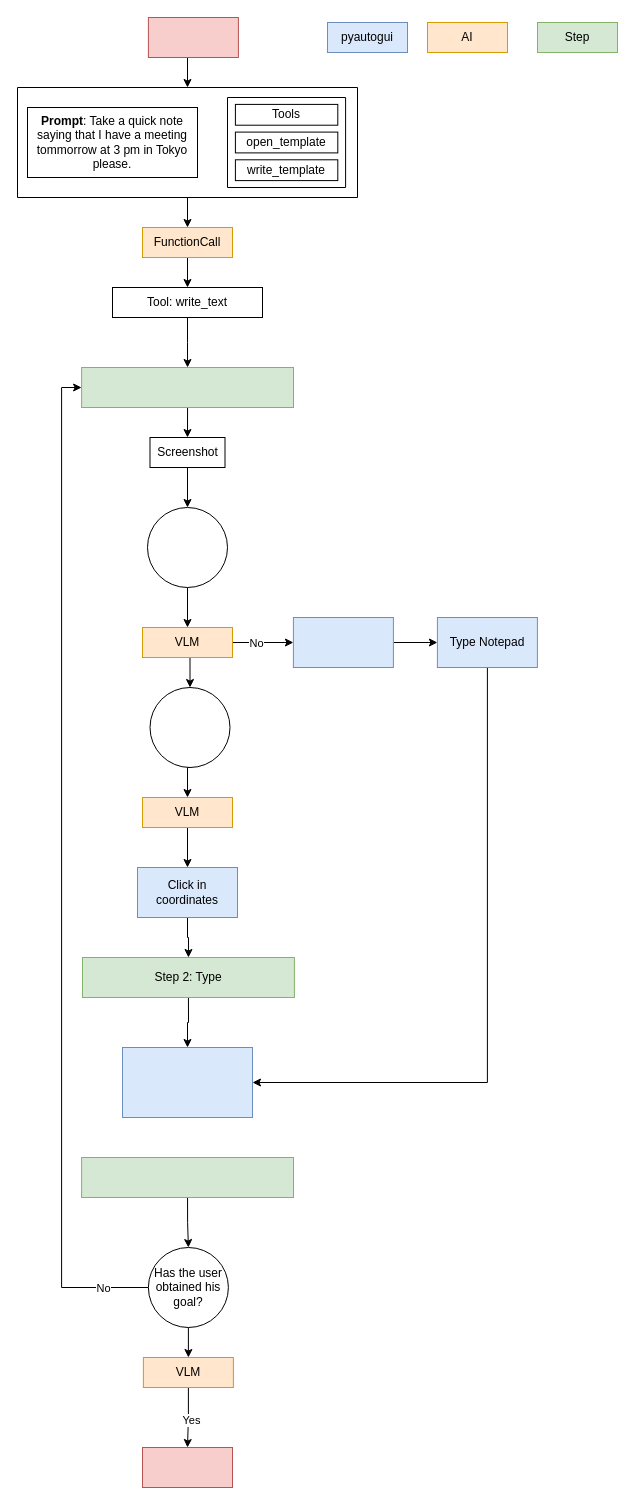
Some shapes in this 635 by 1505 pixel diagram are drawn without their labels. The centre of each missing label's shape, as x and y in pixels:
"End" goes at (x=187, y=1467).
"Give me the coordinates for the notepad app" goes at (x=189, y=727).
"Is app present? (Default:Notepad)" goes at (x=187, y=547).
"Press windows key" goes at (x=342, y=642).
"START" goes at (x=192, y=37).
"Step 1: Launch app" goes at (x=187, y=387).
"Step 3: Verify" goes at (x=187, y=1177).
"Type: Meeting tommorrow at 3 pm in Tokyo" goes at (x=187, y=1082).
